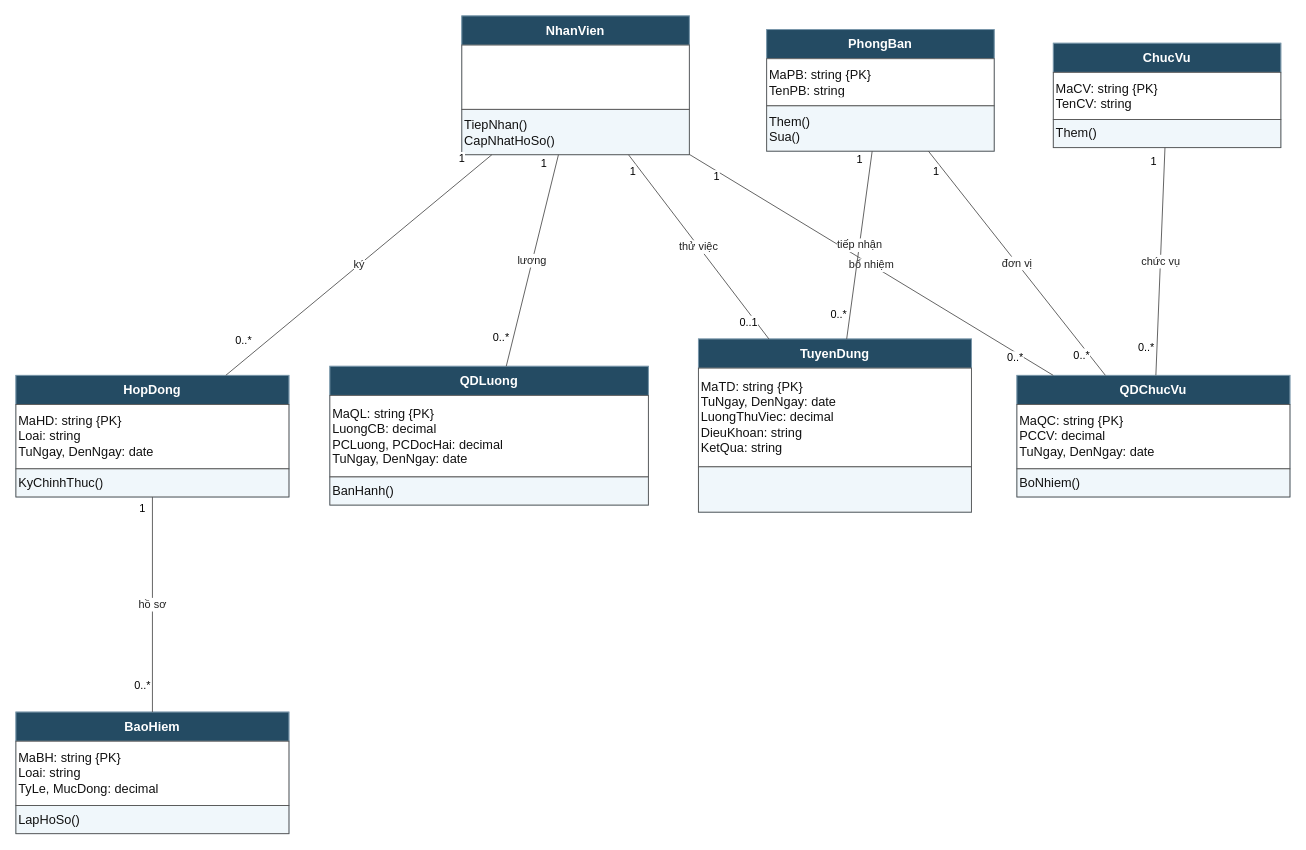
Some shapes in this 1306 by 850 pixel diagram are drawn without their labels. Each missing label, with the centre of its shape:
"Lap() DanhGia()" belongs at pixel 834 489.
"MaNV: string {PK} HoTen: string TrangThai: string" belongs at pixel 575 76.
